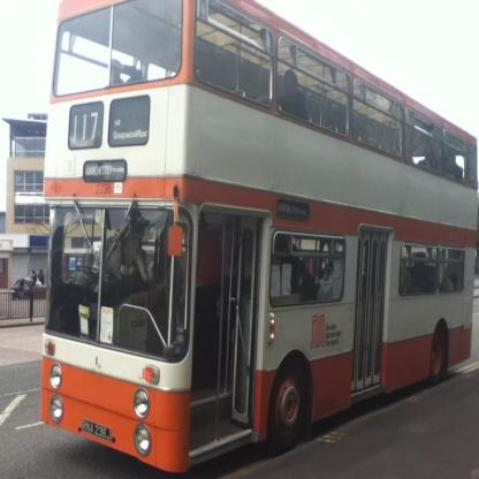bus: (53, 190, 479, 471)
